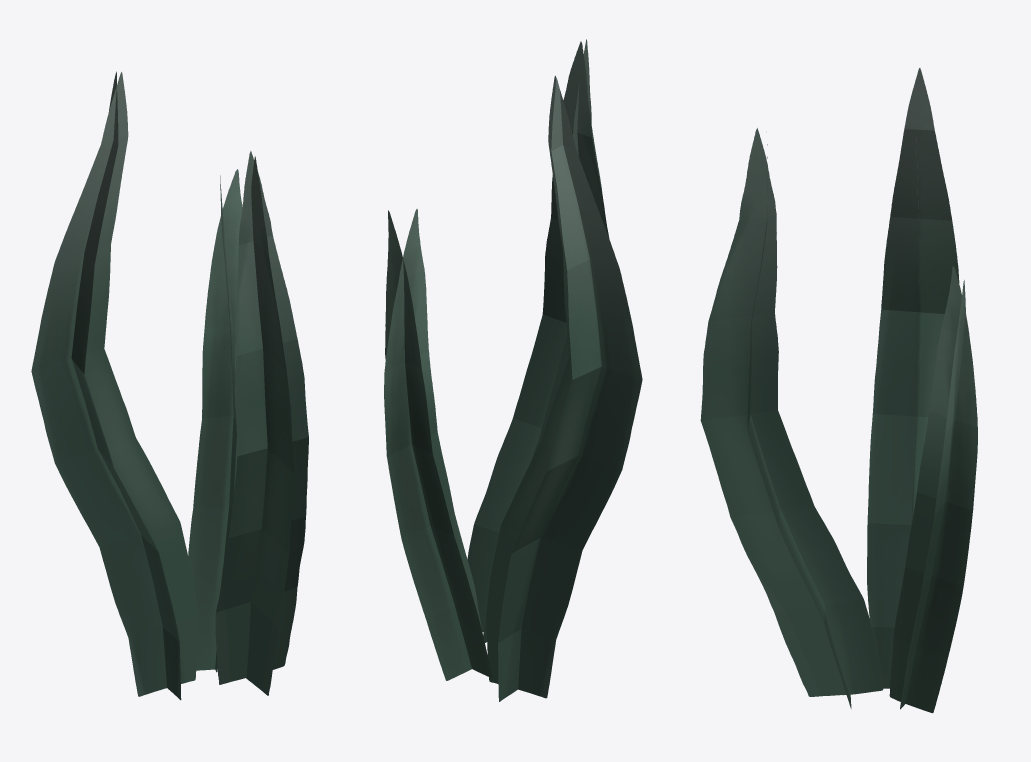
File: Herbe002.fbx
3 renders of one model, left to right at view 1: azimuth 30°, elevation 25°; view 2: azimuth 150°, elevation 25°; view 3: azimuth 270°, elevation 25°, orthographic. The views are drawn at different scales.
Visible parts, largest first — view 1: Plane.022; view 2: Plane.022; view 3: Plane.022.
Boxes of the visible parts, <box> form: Plane.022: <box>31,71,308,700</box>; Plane.022: <box>384,39,642,701</box>; Plane.022: <box>700,68,977,713</box>.
Bounding box in the file's own units: 62.66 × 152 × 66.78.
